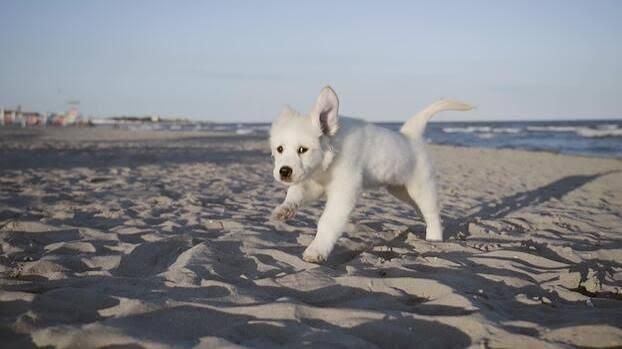puppy-dog: (268, 85, 473, 264)
